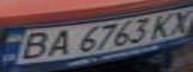3: (130, 16, 157, 44)
6: (75, 24, 100, 53), (115, 18, 139, 47)
7: (96, 20, 121, 51)
A: (39, 27, 78, 58)
B: (9, 29, 57, 61)
K: (145, 11, 181, 39)
X: (160, 8, 193, 36)
